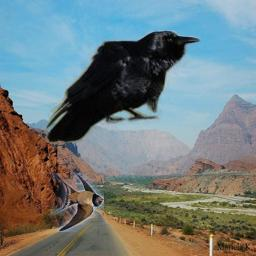Crow: (44, 30, 201, 143)
Swallow: (50, 173, 104, 232)
